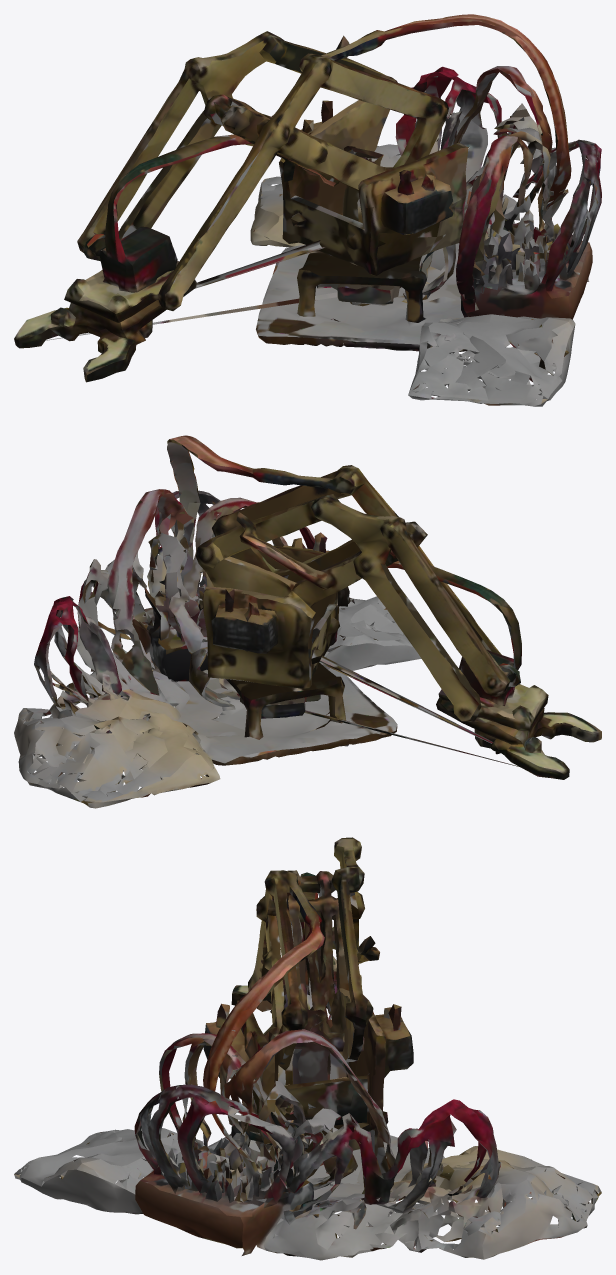
The picture shows the model from 3 angles, top to bottom: view 1: azimuth 30°, elevation 25°; view 2: azimuth 150°, elevation 25°; view 3: azimuth 270°, elevation 25°; orthographic projection. The views are drawn at different scales.
Visible parts, largest first — view 1: tmp5gs6x_p1.ply; view 2: tmp5gs6x_p1.ply; view 3: tmp5gs6x_p1.ply.
Part boxes in pixels (x1,y1,x2,y2): tmp5gs6x_p1.ply: [14, 14, 601, 406]; tmp5gs6x_p1.ply: [14, 435, 601, 808]; tmp5gs6x_p1.ply: [14, 837, 601, 1260].
Bounding box in the file's own units: 1.96 × 0.9841 × 1.95.
1 material, 1 textured.
